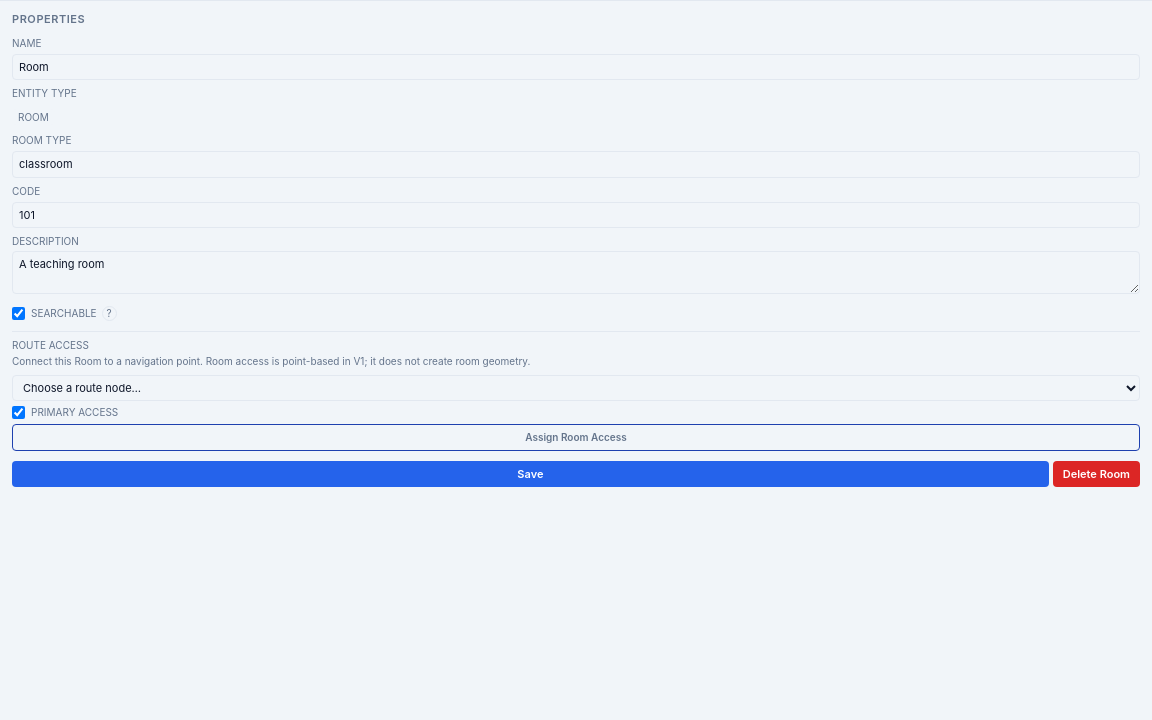
Test: semantic Room projected properties › checks Searchable by default and explains the effect through the help control
The image size is (1152, 720).
Expected: the checkbox labelled "SEARCHABLE" is checked, [12,307,25,320]
Click the button named "What does searchable mean?": (109, 314) [102,306,117,321]
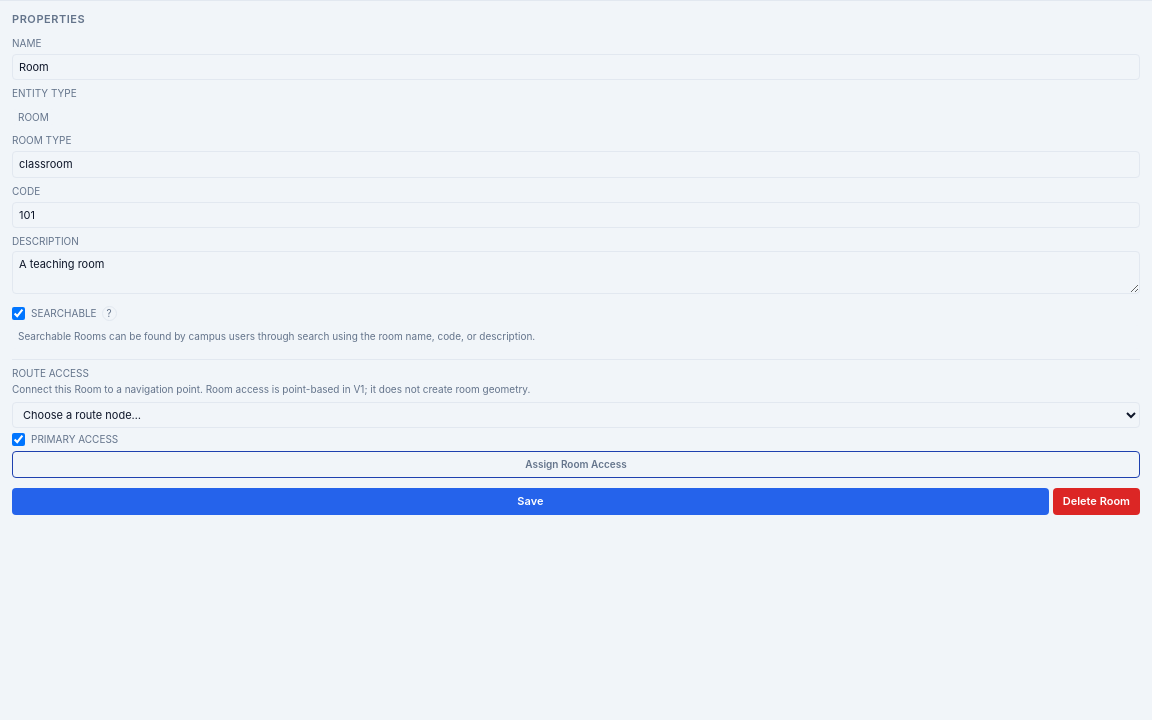
Expected: the tooltip shows "Searchable Rooms can be found by campus users through search using the room name, code, or description.", [18,330,535,342]
